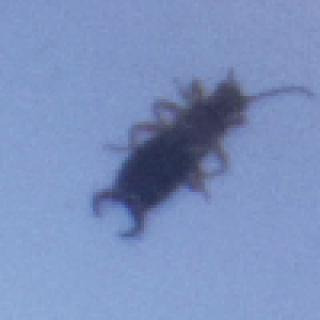earwig: (87, 65, 313, 244)
